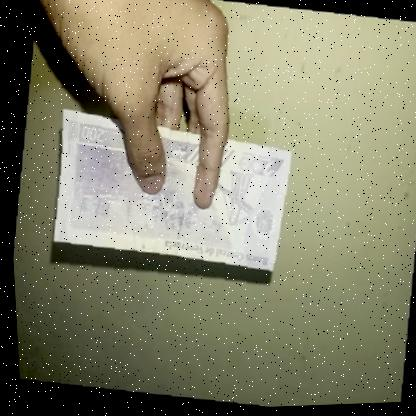two_hundred-back-vef: (41, 100, 299, 281)
